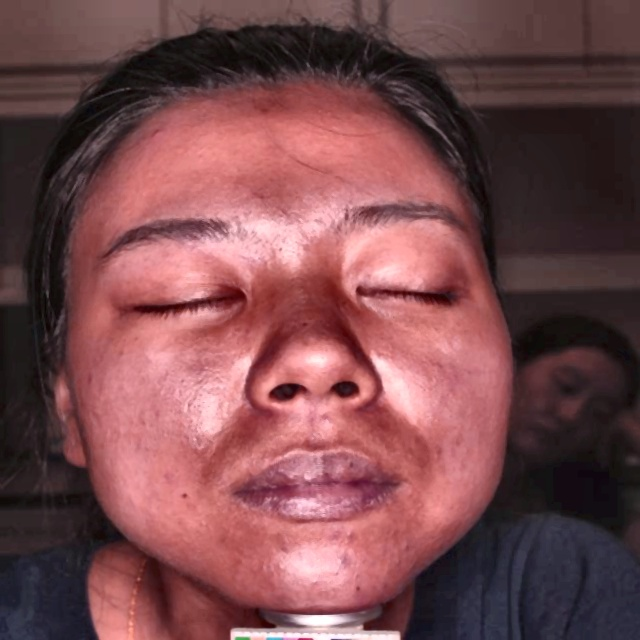comedone: (147, 121, 169, 145), (330, 552, 352, 571)
